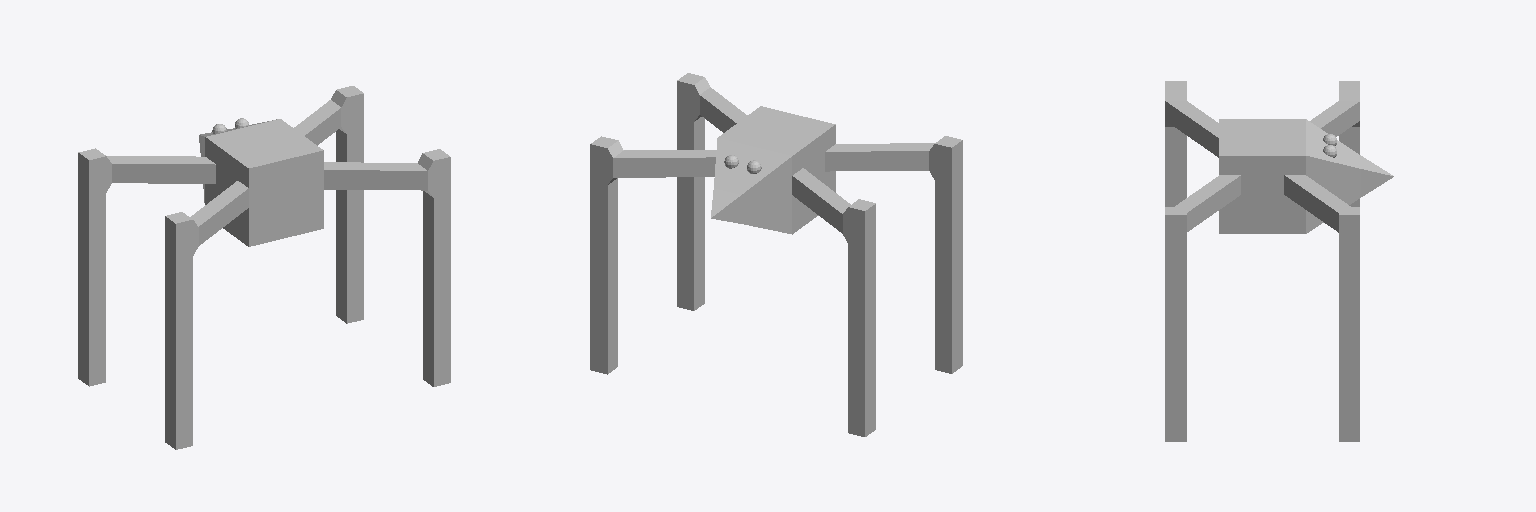
The model's file is generic_object_longlegs.obj.
The picture shows the model from 3 angles: view 1: azimuth 30°, elevation 25°; view 2: azimuth 150°, elevation 25°; view 3: azimuth 270°, elevation 25°; orthographic projection.
Visible parts, largest first — view 1: Cube; view 2: Cube, tip_Cube.001; view 3: Cube, tip_Cube.001.
Part boxes in pixels (x1,y1,x2,y2): Cube: (78,86,450,449); Cube: (590,73,962,436); tip_Cube.001: (711,188,741,223); Cube: (1165,81,1360,441); tip_Cube.001: (1361,156,1393,196).
Bounding box in the file's own units: 7.33 × 6.04 × 5.29.